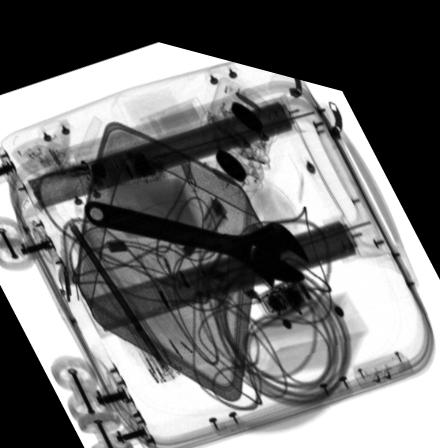Wrench: (83, 196, 310, 276)
